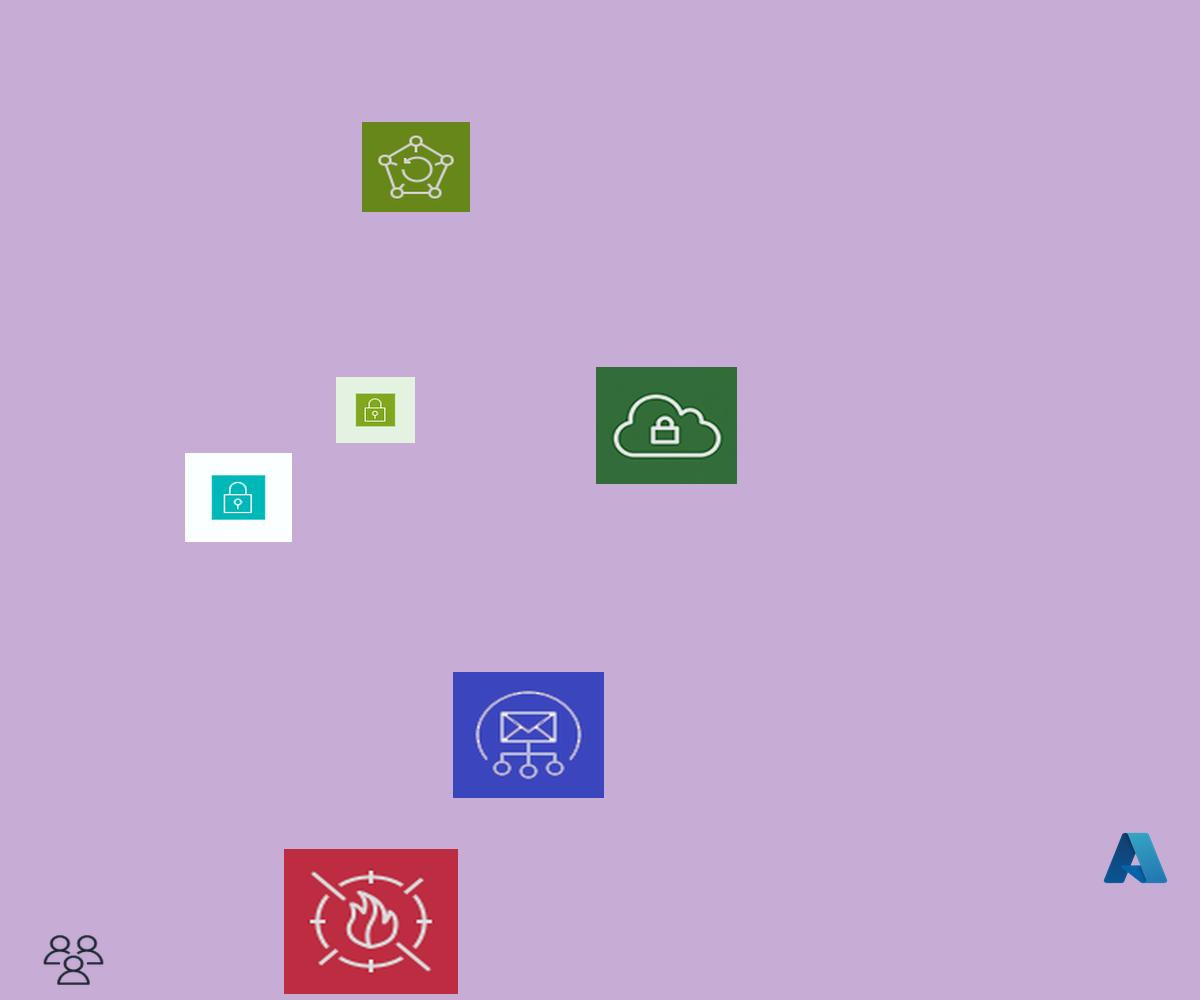AWS-Backup: (362, 122, 470, 212)
AWS-Private-subnet: (185, 453, 292, 542)
AWS-Private_vpc: (596, 367, 737, 484)
AWS-Public-subnet: (336, 377, 415, 443)
AWS-Res_Users: (41, 933, 106, 987)
AWS-Simple-Email-Service: (453, 672, 604, 798)
AWS-WAF: (284, 849, 458, 994)
Azure_services: (1101, 829, 1170, 887)
